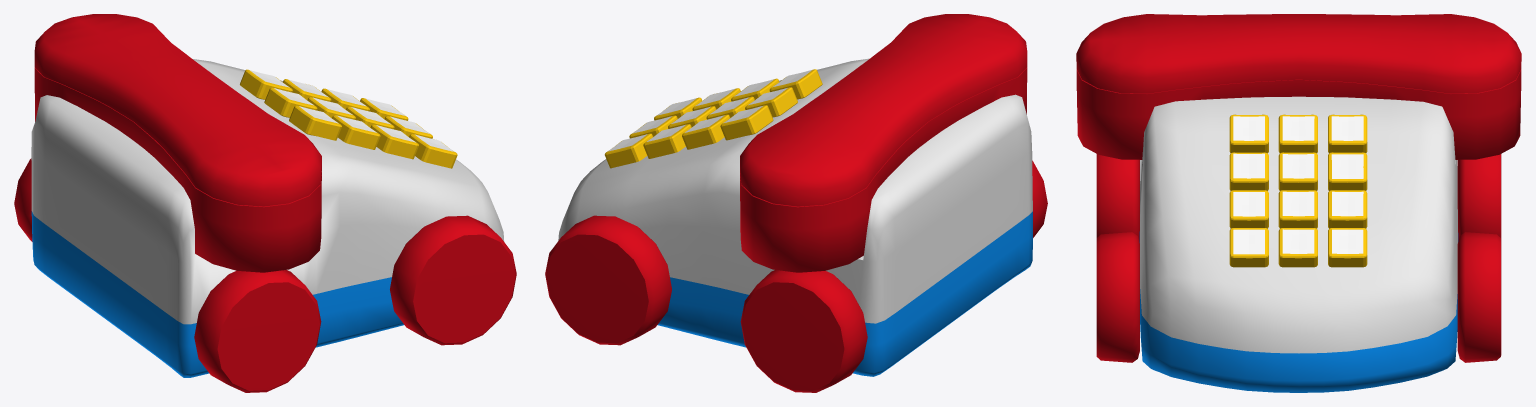
The model's file is Chatter_Phone_1.fbx.
3 renders of one model, left to right at view 1: azimuth 30°, elevation 25°; view 2: azimuth 150°, elevation 25°; view 3: azimuth 270°, elevation 25°, orthographic.
Visible parts, largest first — view 1: Base, Telephone, Wheels, Key; view 2: Base, Telephone, Wheels, Key; view 3: Base, Telephone, Wheels, Key, Key-*, Key-0, Key-2, Key-3, Key-5, Key-8, Key-4, Key-6 (+4 smaller).
Part boxes in pixels (x1,y1,x2,y2): Base: [31, 59, 504, 377]; Telephone: [34, 14, 321, 272]; Wheels: [14, 158, 516, 392]; Key: [240, 69, 457, 168]; Base: [558, 58, 1032, 376]; Telephone: [740, 14, 1027, 272]; Wheels: [545, 160, 1047, 392]; Key: [604, 69, 822, 168]; Base: [1139, 96, 1458, 392]; Telephone: [1076, 14, 1521, 159]; Wheels: [1096, 154, 1501, 362]; Key: [1229, 114, 1367, 267]; Key-*: [1233, 229, 1264, 254]; Key-0: [1282, 229, 1314, 253]; Key-2: [1282, 116, 1314, 140]; Key-3: [1331, 116, 1363, 140]; Key-5: [1282, 154, 1314, 178]; Key-8: [1282, 191, 1314, 216]; Key-4: [1233, 153, 1264, 178]; Key-6: [1331, 154, 1363, 178].
Size of the model in its own units: 189 by 115 by 197.
